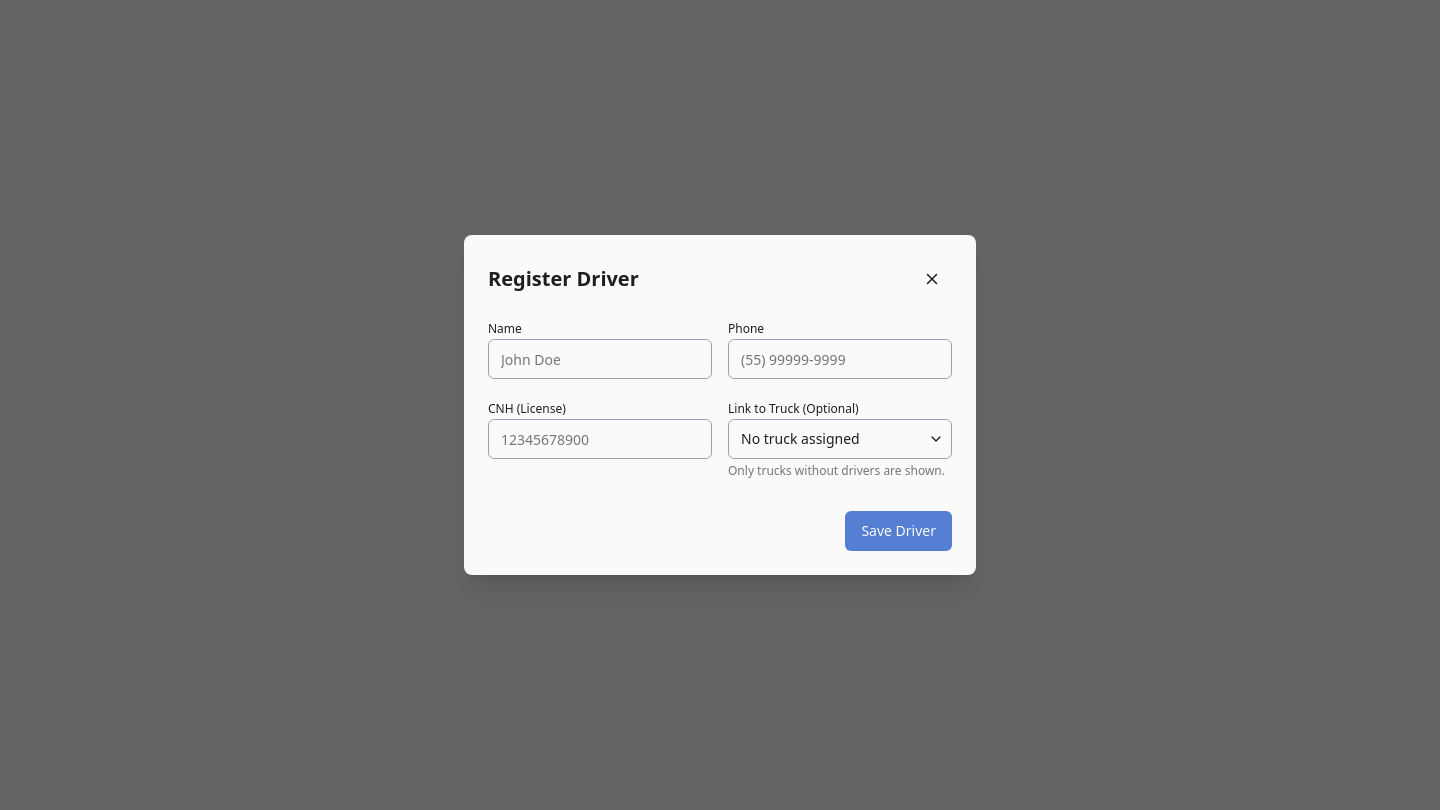
Test case: DriverFormDialog › should show validation errors on submit with empty data
Click the button "Save Driver" at (899, 531), box x1=845 y1=511 x2=952 y2=551
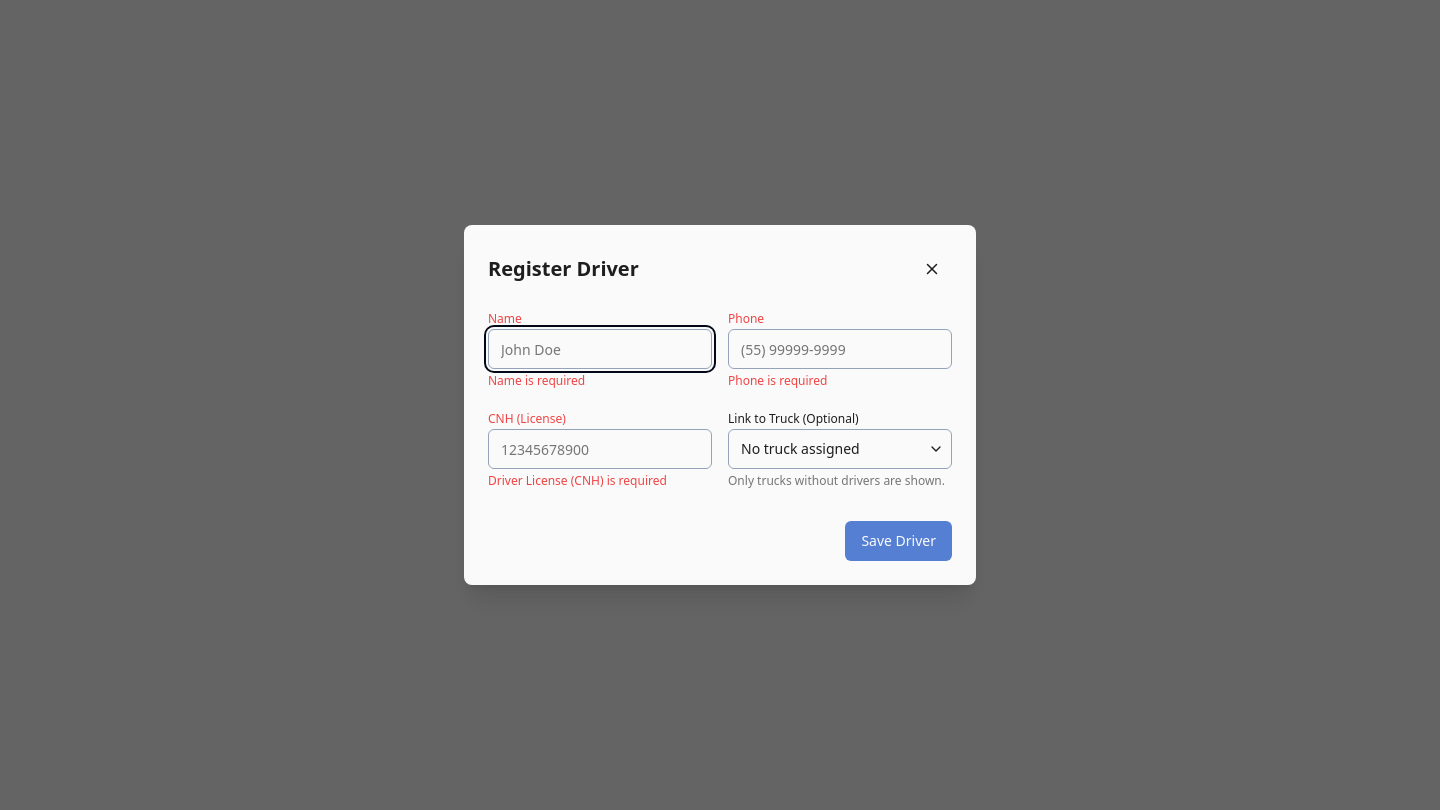
Expected: the text "Name is required" is shown, x1=488 y1=372 x2=585 y2=389
Expected: the text "Phone is required" is shown, x1=728 y1=372 x2=828 y2=389
Expected: the text "Driver License (CNH) is required" is shown, x1=488 y1=472 x2=667 y2=489
